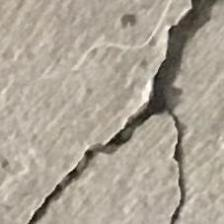Crack: (34, 0, 224, 224)
